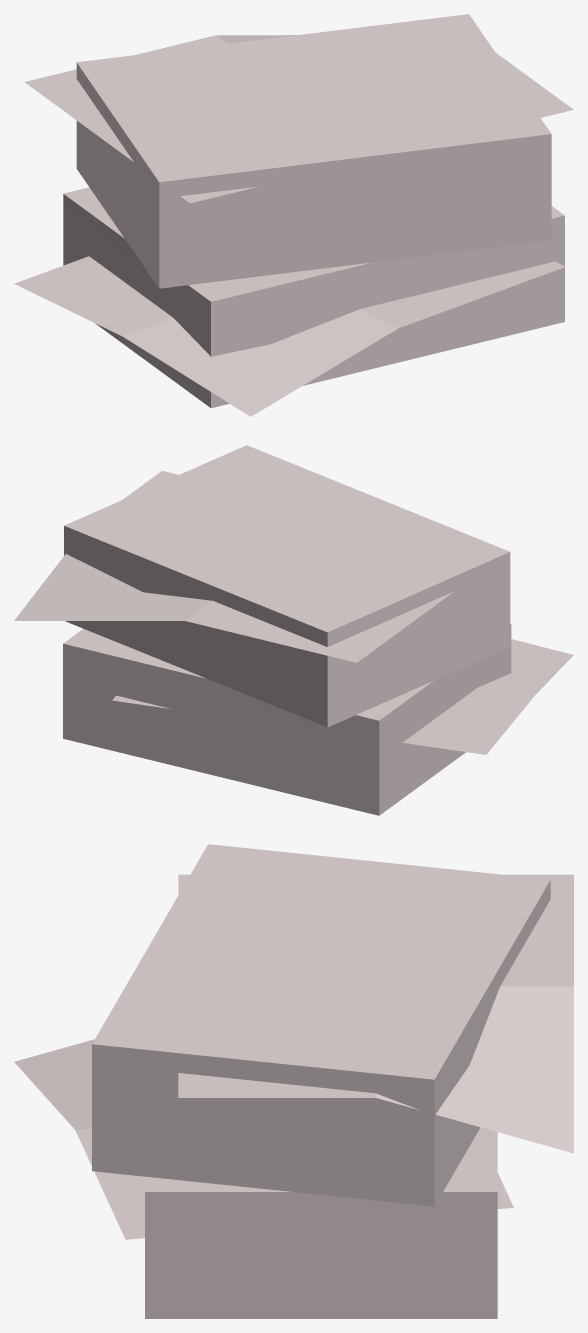
Rendered from StackofPapers.fbx.
3 views of the same model, one above another, from view 1: azimuth 30°, elevation 25°; view 2: azimuth 150°, elevation 25°; view 3: azimuth 270°, elevation 25° (orthographic). The views are drawn at different scales.
Visible parts, largest first — view 1: Cube.001; view 2: Cube.001; view 3: Cube.001.
Boxes of the visible parts, <box> form: Cube.001: <box>14,14,573,416</box>; Cube.001: <box>14,445,573,815</box>; Cube.001: <box>14,844,573,1318</box>.
Bounding box in the file's own units: 21.04 × 9.22 × 18.44.
